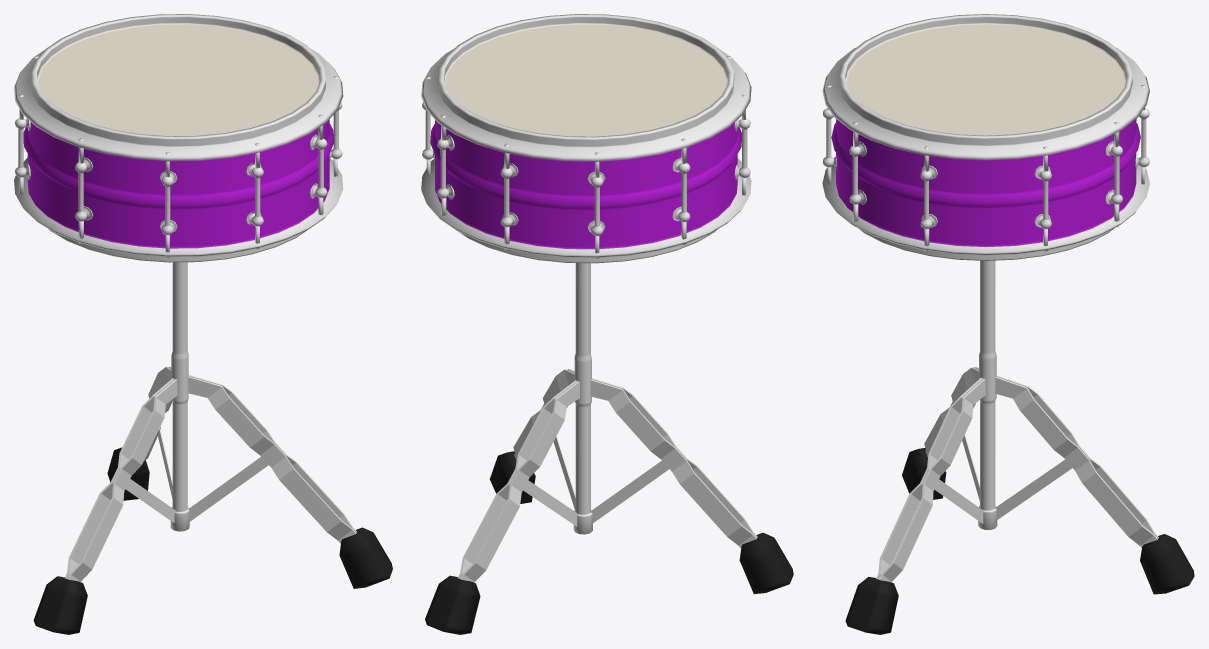
The model's file is Snare.fbx.
The picture shows the model from 3 angles, left to right: view 1: azimuth 30°, elevation 25°; view 2: azimuth 150°, elevation 25°; view 3: azimuth 270°, elevation 25°; orthographic projection.
Parts seen in each view (by area): view 1: Snare_LOD0; view 2: Snare_LOD0; view 3: Snare_LOD0.
Boxes of the visible parts, <box> form: Snare_LOD0: <box>14,14,392,634</box>; Snare_LOD0: <box>421,14,793,634</box>; Snare_LOD0: <box>822,14,1194,634</box>.
Size of what is drawn, in the model's own units: 75.92 by 110 by 75.28.
